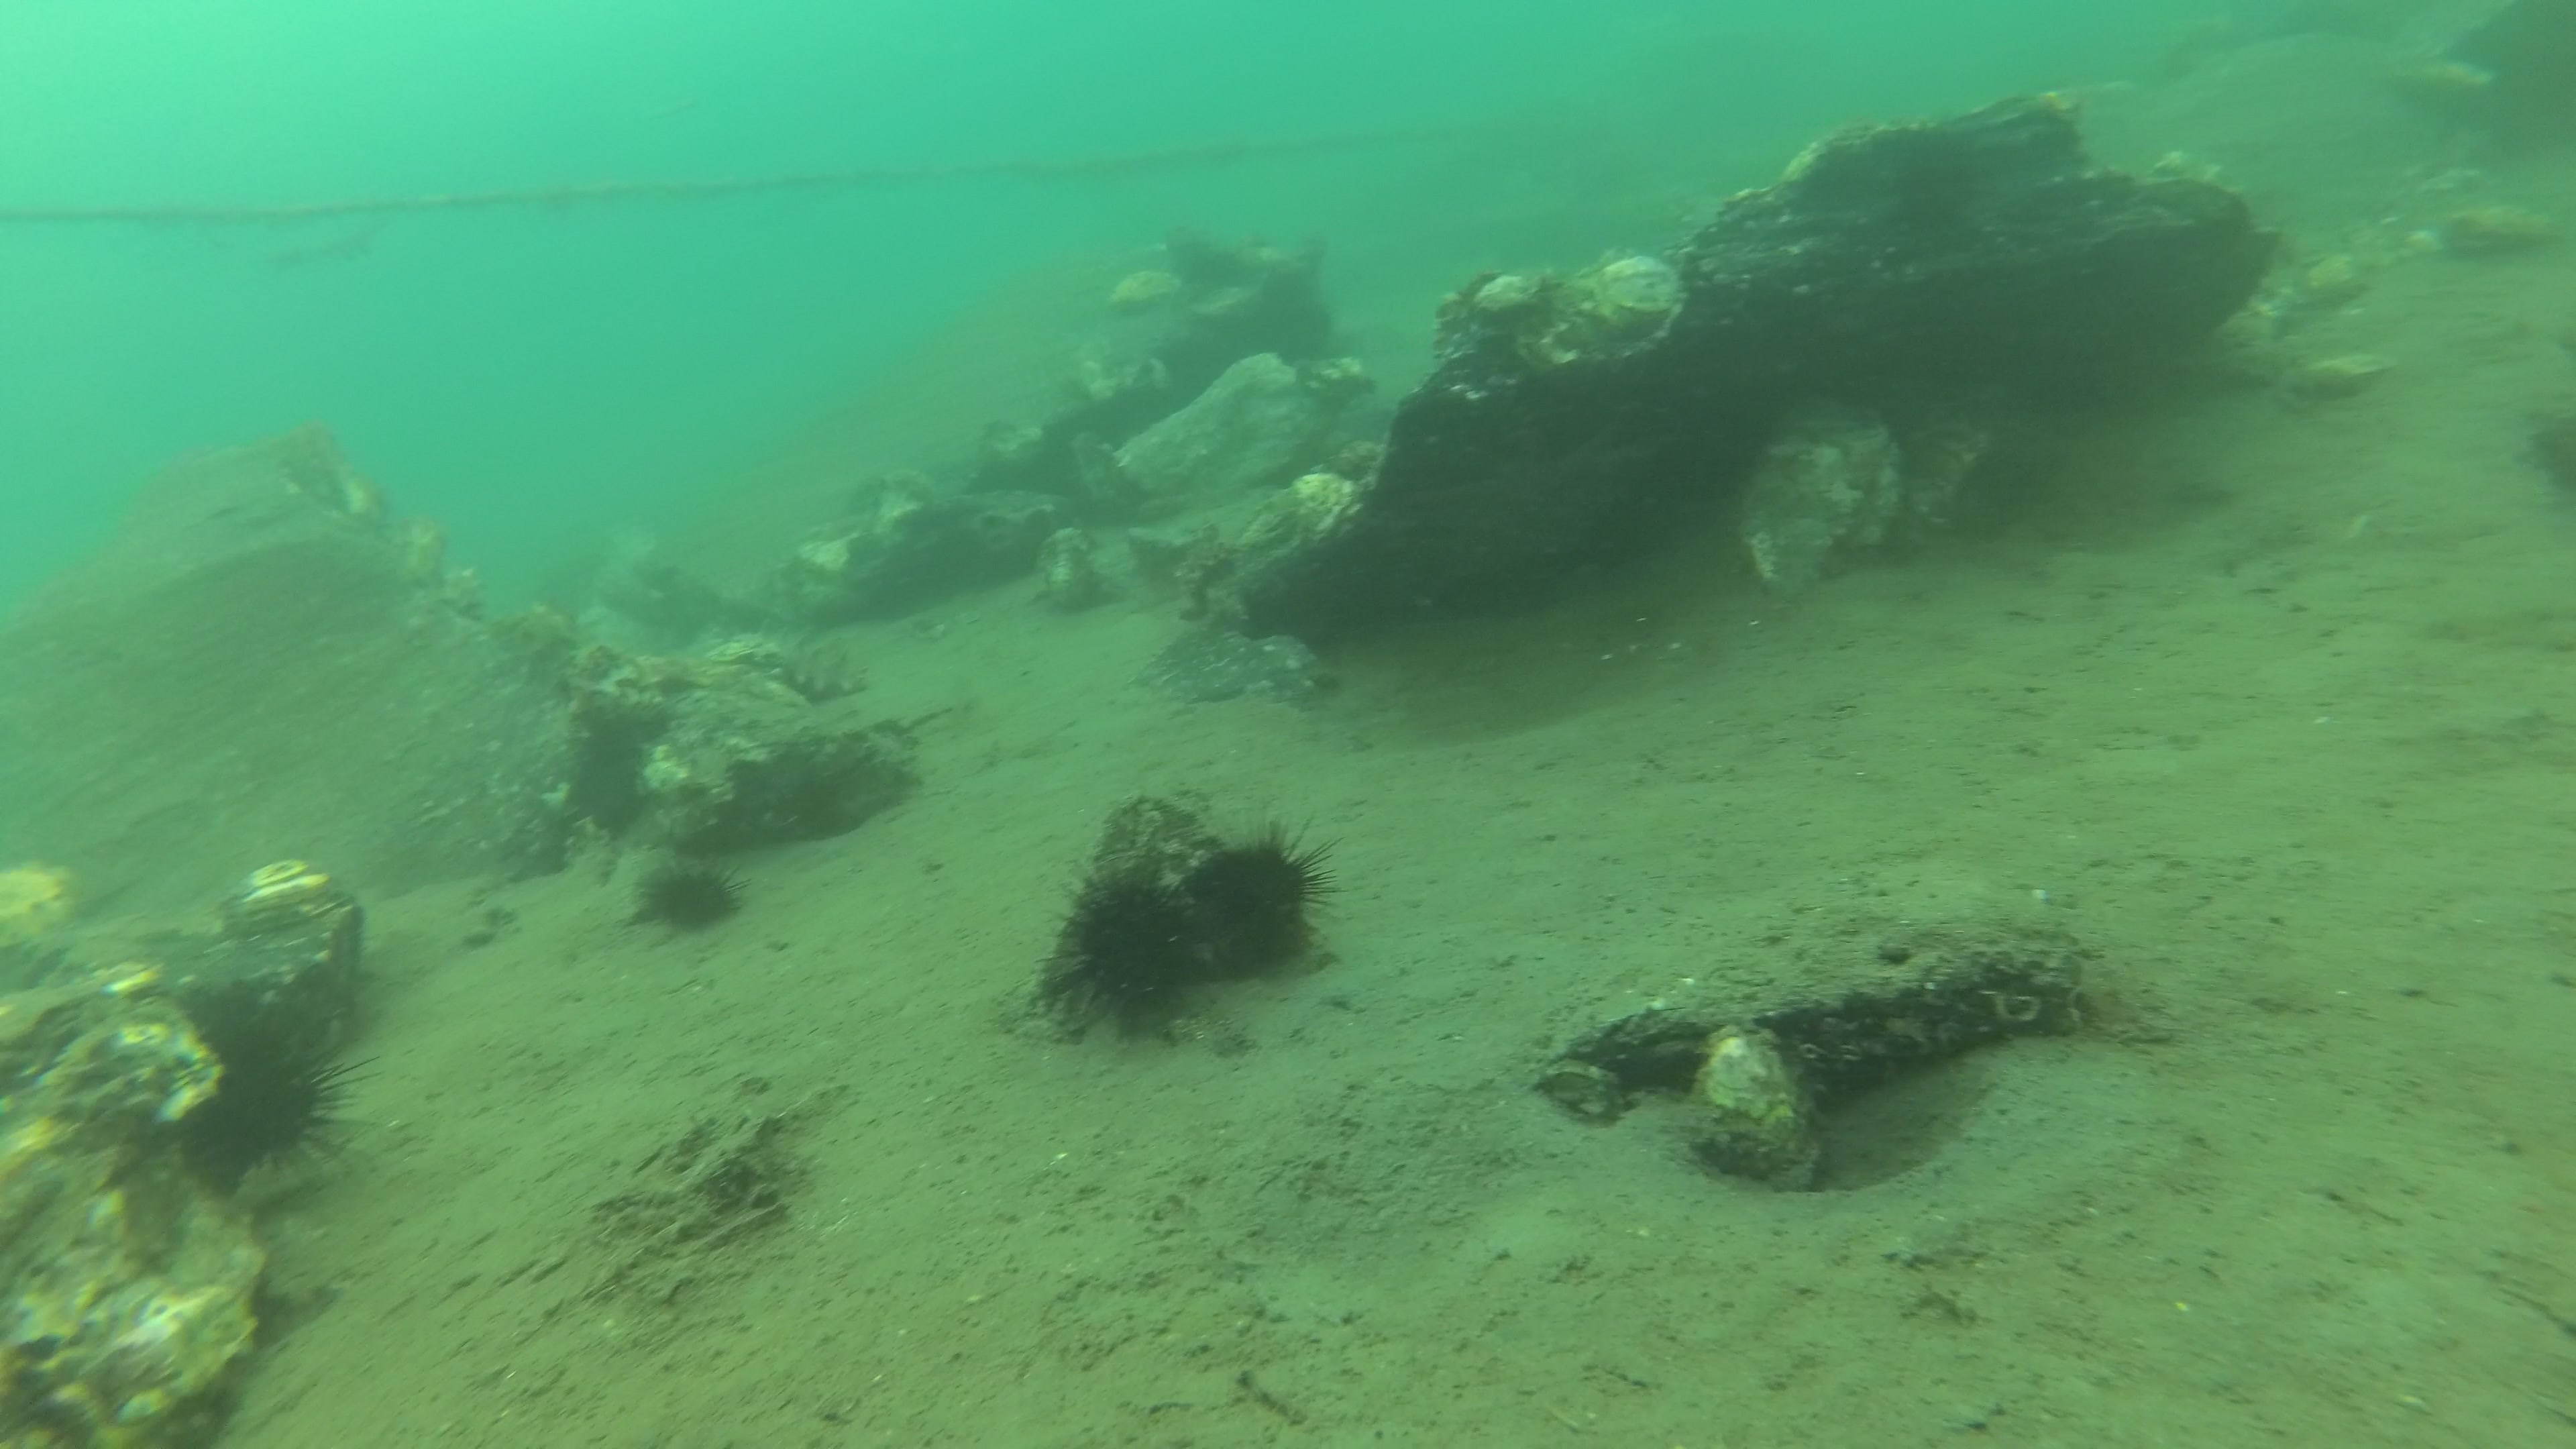echinus: (1033, 853, 1217, 1044), (203, 1005, 379, 1177), (1191, 805, 1353, 964), (1891, 117, 1982, 230), (632, 855, 754, 934), (1187, 239, 1251, 287), (1297, 303, 1338, 356)
holothurian: (704, 616, 872, 695)
starfish: (1398, 421, 1652, 582)
